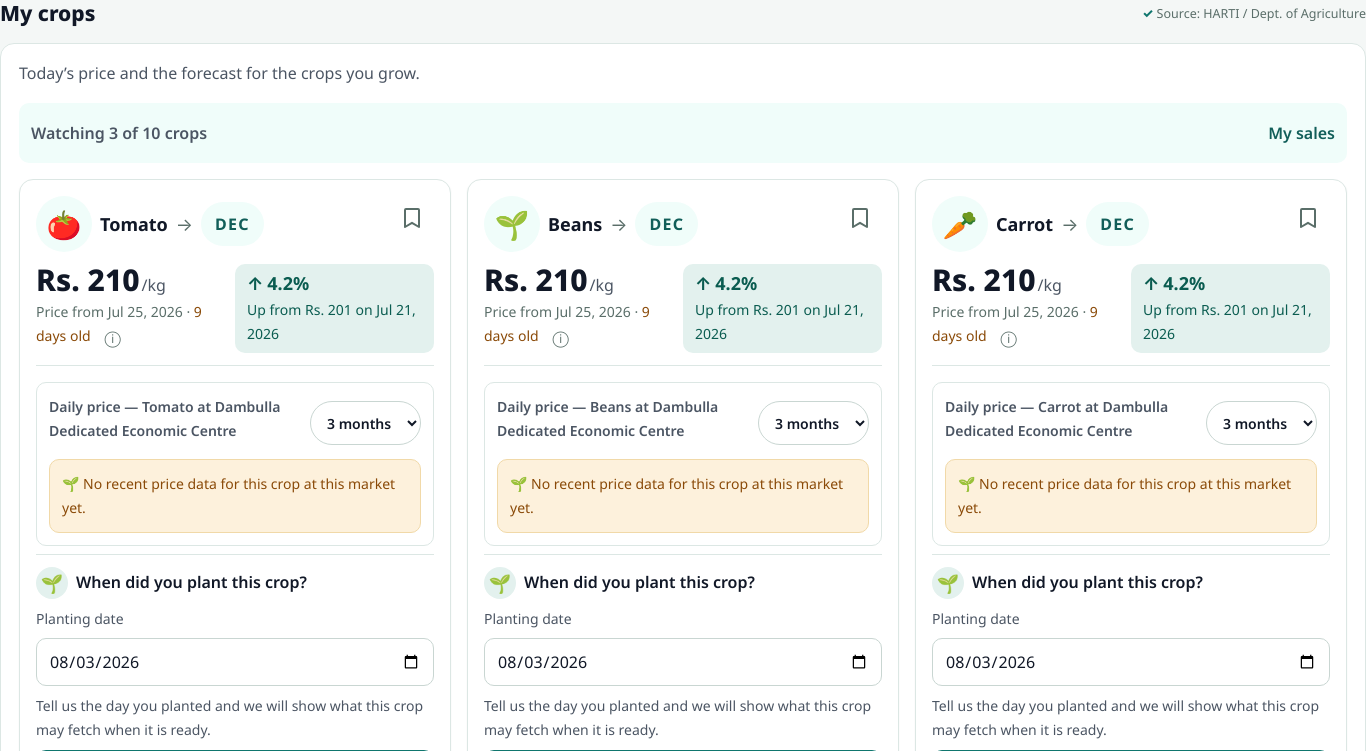
Test: PortfolioPage — a batch removal survives a crop that is already gone (S4) › treats a 404 watchlist_entry_not_found as done and REMOVES THE REST
This screenshot has width=1366, height=751.
Step 1. Click the checkbox named "Tick Tomato to remove it" → x=412, y=218, box [400, 196, 424, 240]
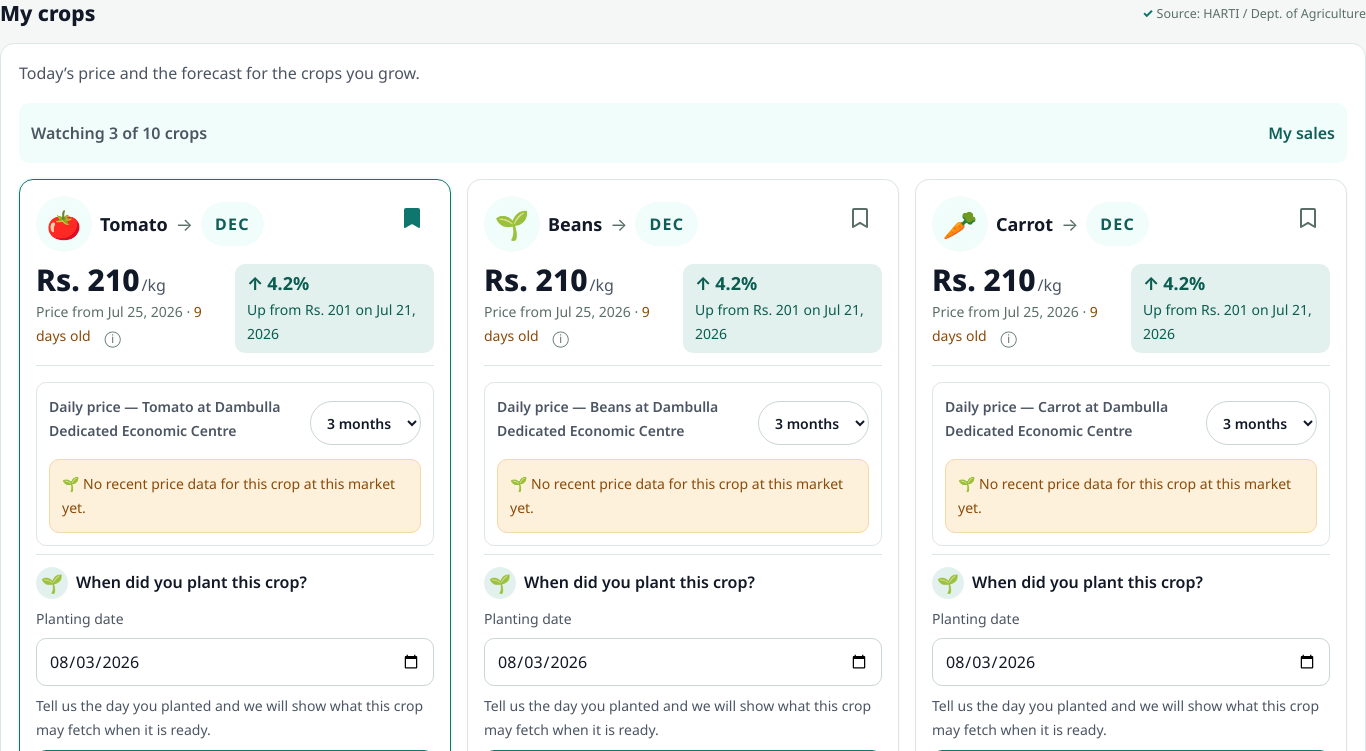
Step 2. Click the checkbox named "Tick Beans to remove it" → x=860, y=218, box [848, 196, 872, 240]
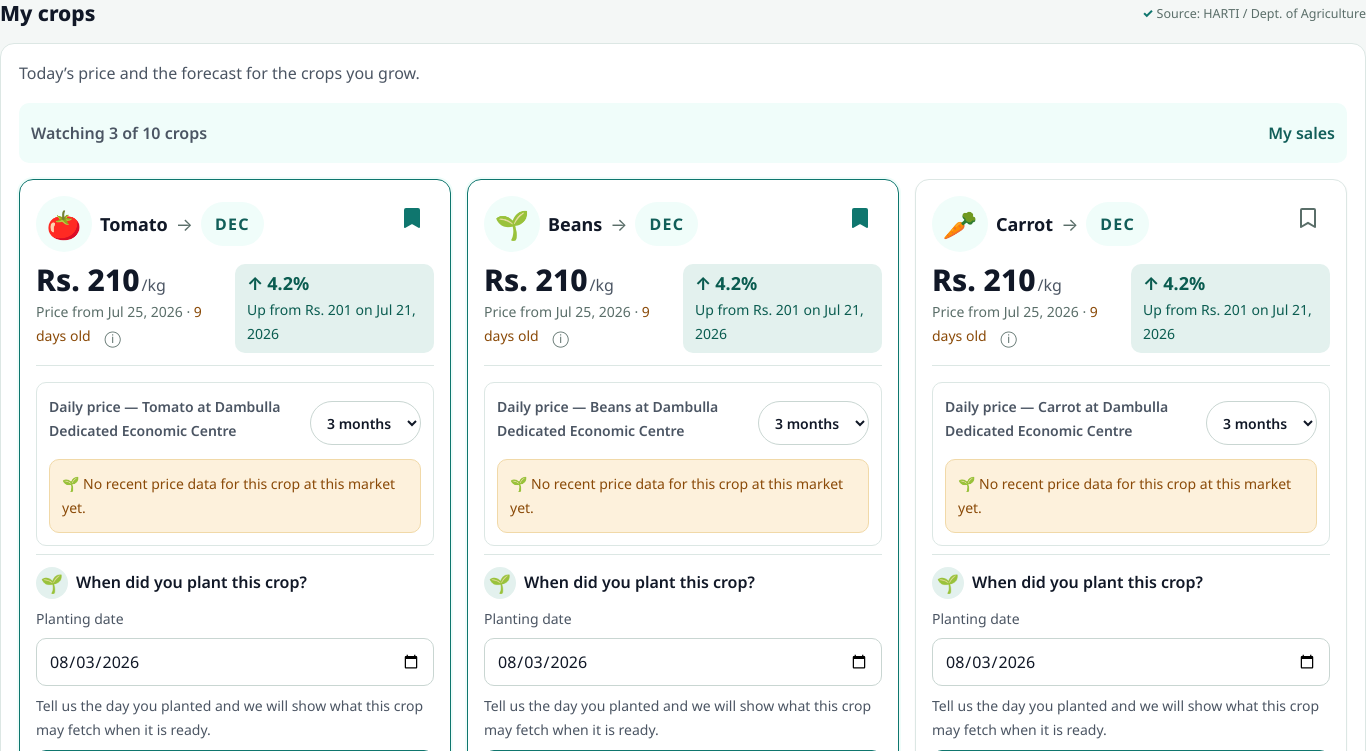
Step 3. Click the checkbox named "Tick Carrot to remove it" → x=1308, y=218, box [1296, 196, 1320, 240]
(page scrolled)
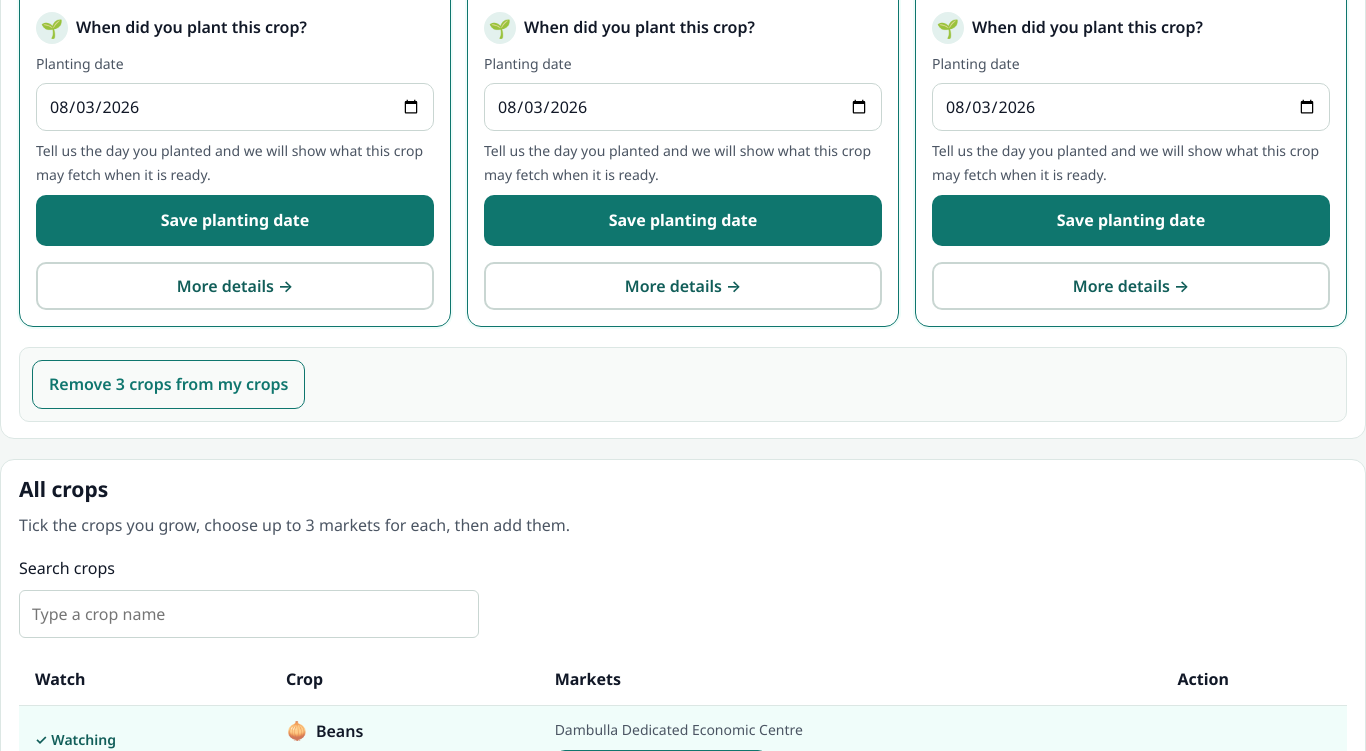
Step 4. Click the button "Remove 3 crops from my crops" → x=169, y=385, box [32, 360, 305, 409]
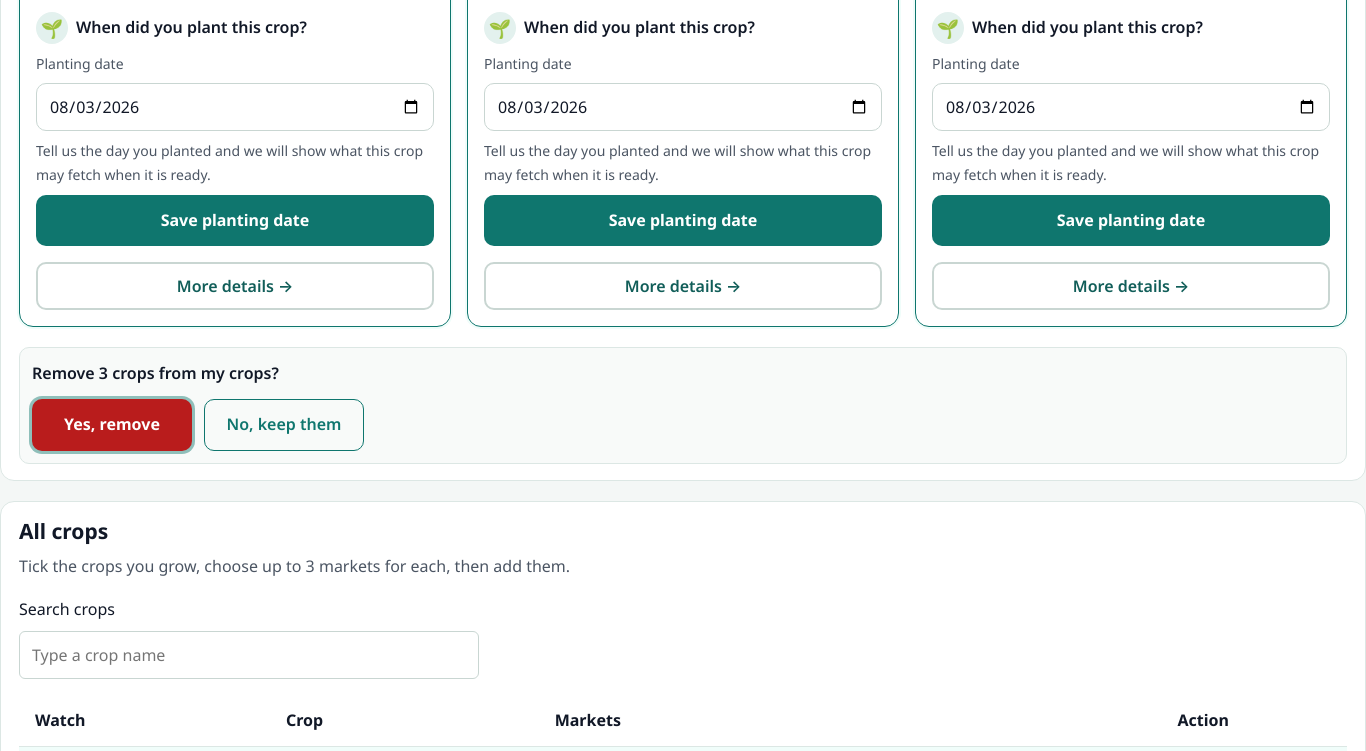
Step 5. Click the button "Yes, remove" → x=112, y=425, box [32, 399, 192, 451]
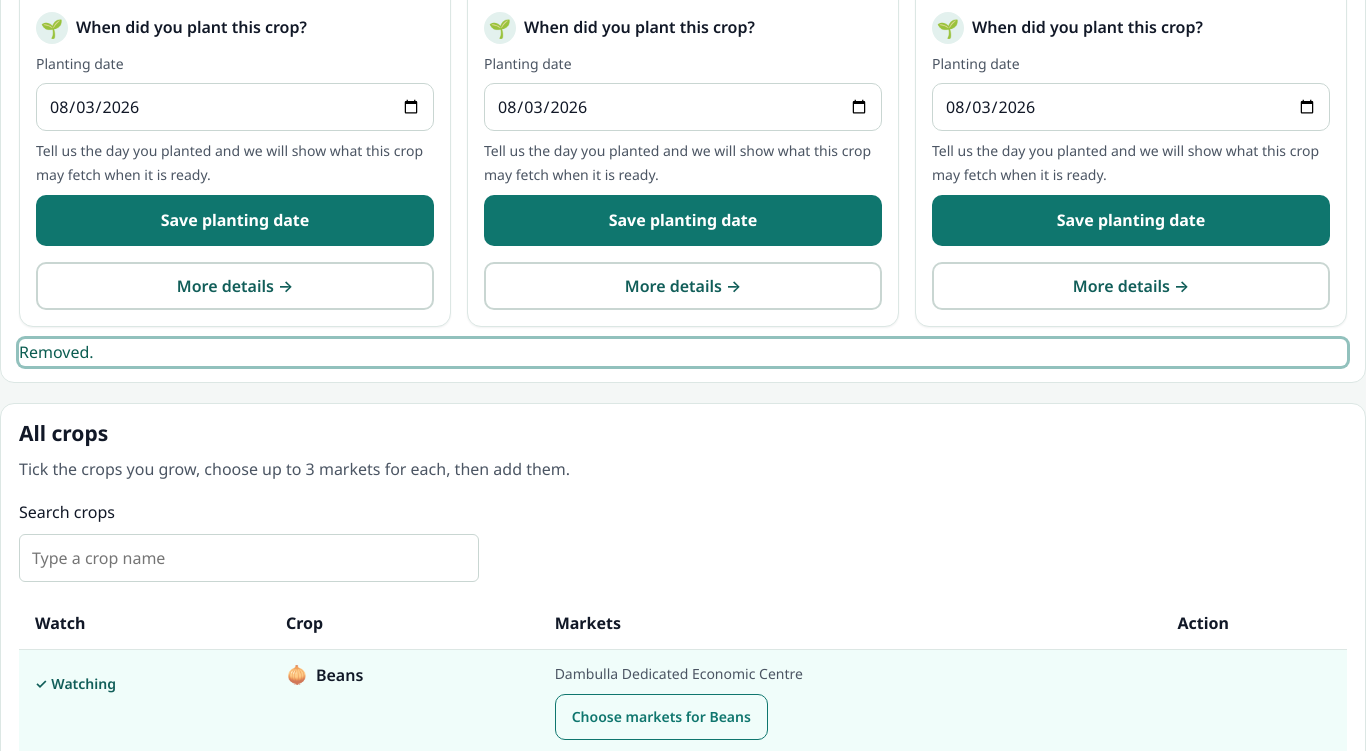
Now the text "Removed." is shown, box [19, 339, 1347, 366]
